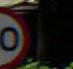Speed limit: (1, 3, 28, 66)
